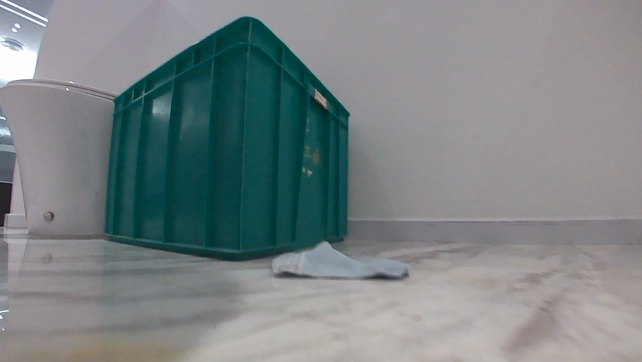socks: (269, 239, 413, 281)
toilet: (0, 72, 116, 240)
